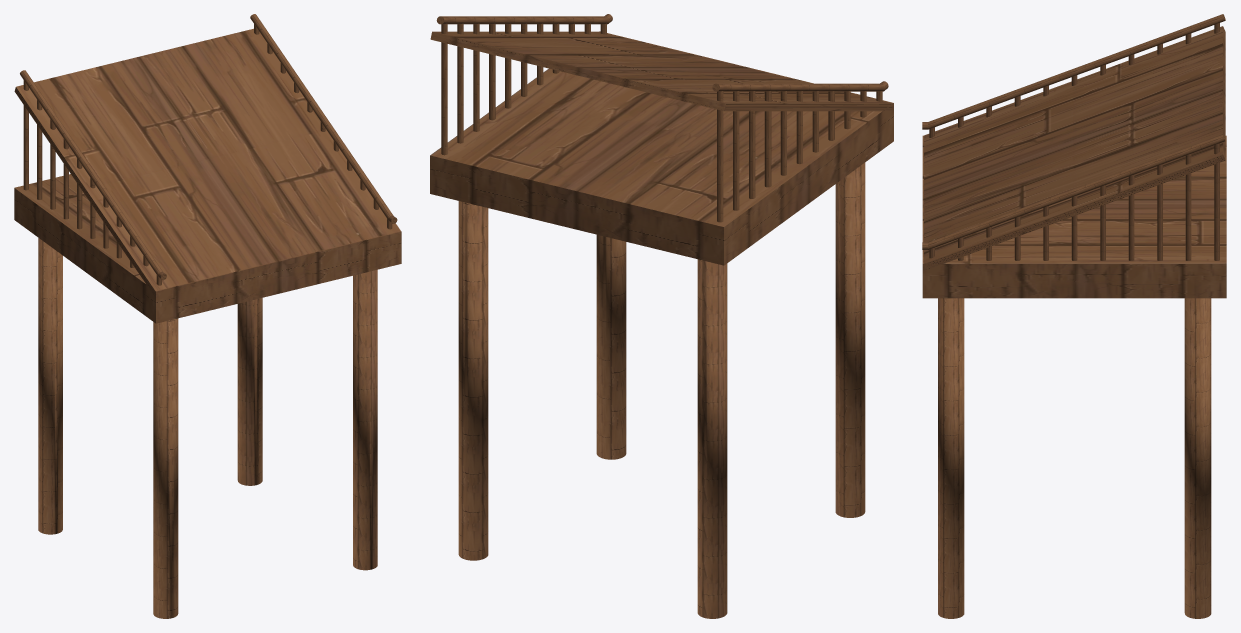
Rendered from Jump16.fbx.
3 views of the same model, side by side, from view 1: azimuth 30°, elevation 25°; view 2: azimuth 150°, elevation 25°; view 3: azimuth 270°, elevation 25° (orthographic). The views are drawn at different scales.
Parts seen in each view (by area): view 1: Ground.001, Ground; view 2: Ground.001, Ground; view 3: Ground.001, Ground.
Boxes of the visible parts, bbox=[...] form: Ground.001: bbox=[14, 14, 400, 618]; Ground: bbox=[14, 174, 401, 323]; Ground.001: bbox=[430, 14, 892, 618]; Ground: bbox=[430, 31, 893, 265]; Ground.001: bbox=[922, 14, 1225, 618]; Ground: bbox=[922, 135, 1226, 298].
Bounding box in the file's own units: 1600 × 2827 × 1602.
